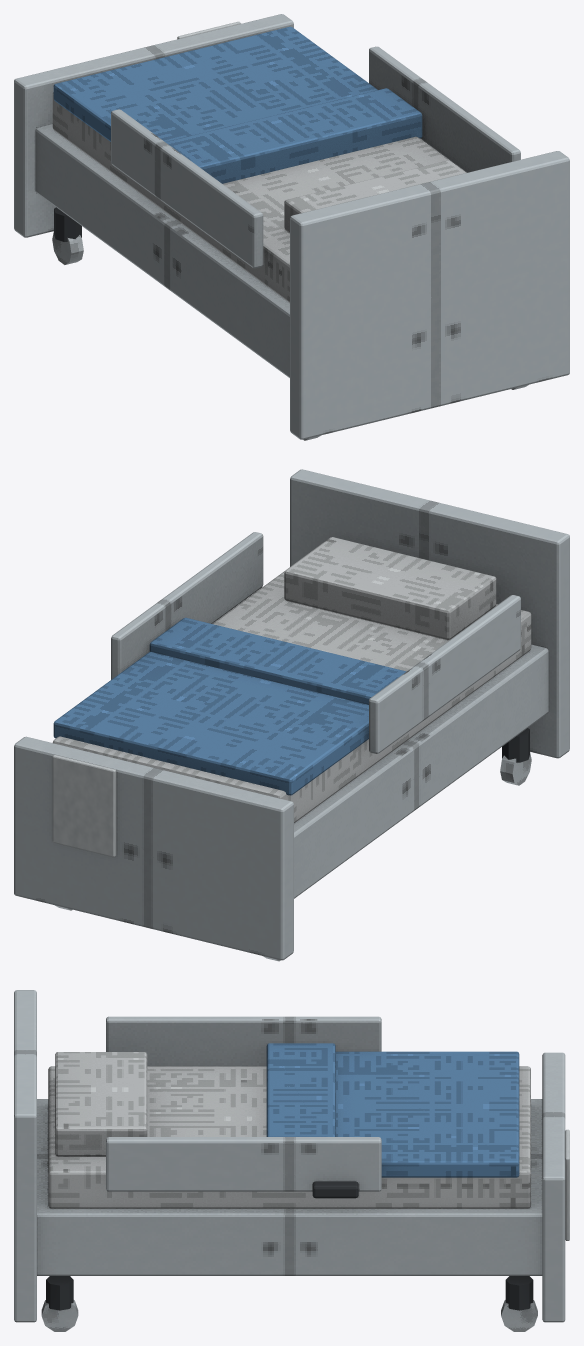
File: base_med_bed.glb
The picture shows the model from 3 angles, top to bottom: view 1: azimuth 30°, elevation 25°; view 2: azimuth 150°, elevation 25°; view 3: azimuth 270°, elevation 25°; orthographic projection. The views are drawn at different scales.
Visible parts, largest first — view 1: base_med_bed; view 2: base_med_bed; view 3: base_med_bed.
Part boxes in pixels (bbox=[...]): base_med_bed: bbox=[14, 14, 569, 440]; base_med_bed: bbox=[14, 469, 569, 961]; base_med_bed: bbox=[14, 990, 569, 1331].
Bounding box in the file's own units: 1.35 × 1.1 × 2.42.
Materials: 5 (5 with a texture image).
